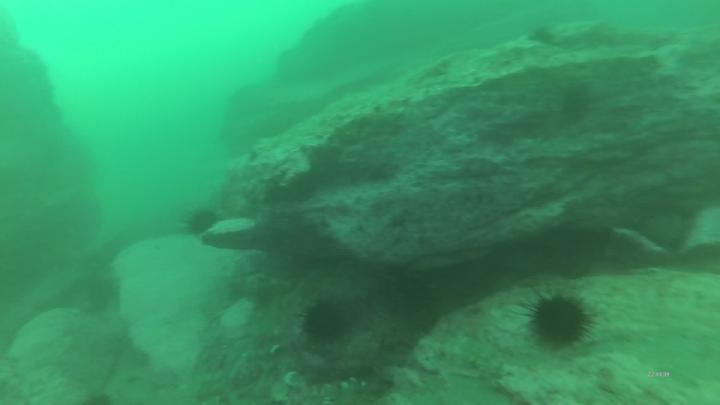echinus: (523, 288, 598, 352), (300, 300, 356, 345), (561, 81, 595, 126), (184, 206, 223, 240), (530, 26, 559, 47)
holothurian: (300, 356, 387, 391)
